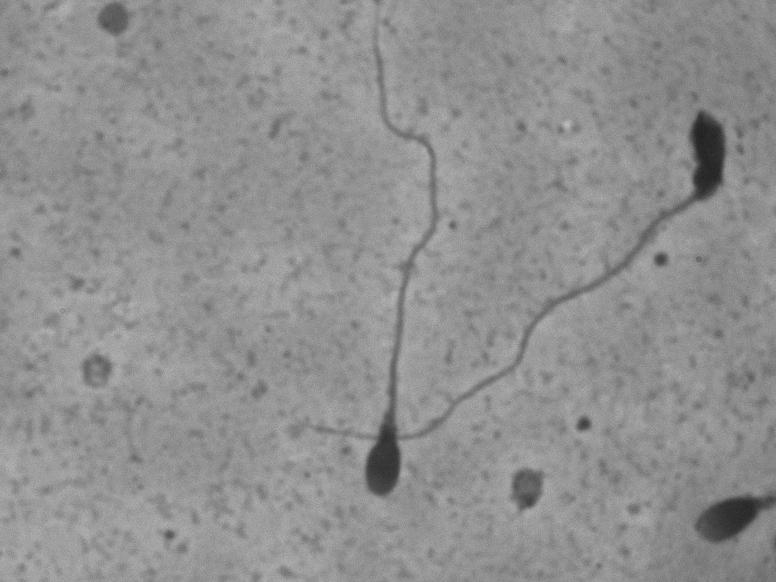Abnormal: (517, 105, 770, 376), (352, 7, 451, 511)
